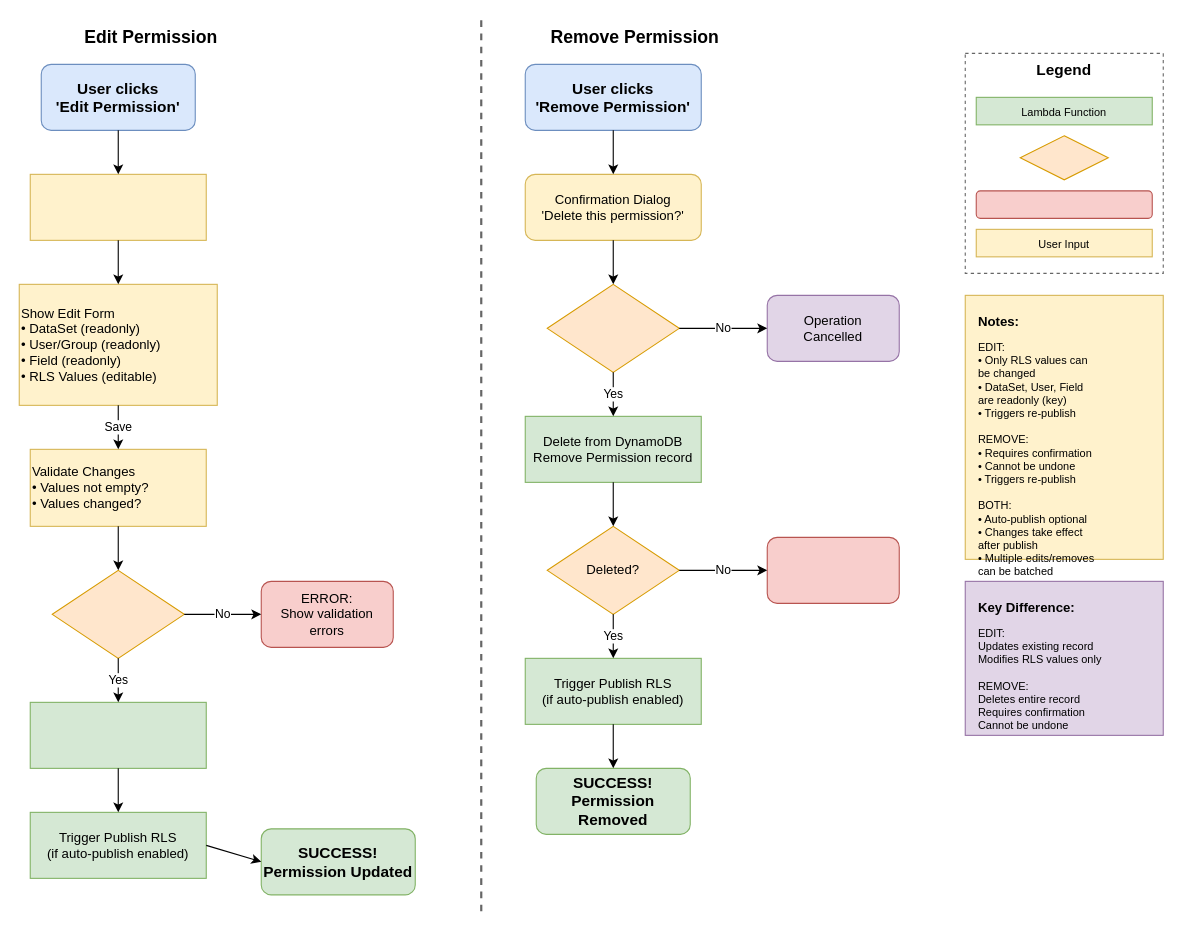
Some shapes in this 1183 by 932 pixel diagram are drawn without their labels. The centre of each missing label's shape, as x and y in pixels:
"Decision Point" belongs at [1063,157].
"Error State" belongs at [1063,204].
"ERROR: Database error" belongs at [832,569].
"Load Permission from DynamoDB" belongs at [117,206].
"Update DynamoDB Save new RLS values" belongs at [117,734].
"User Confirms?" belongs at [612,327].
"Valid?" belongs at [117,613].
